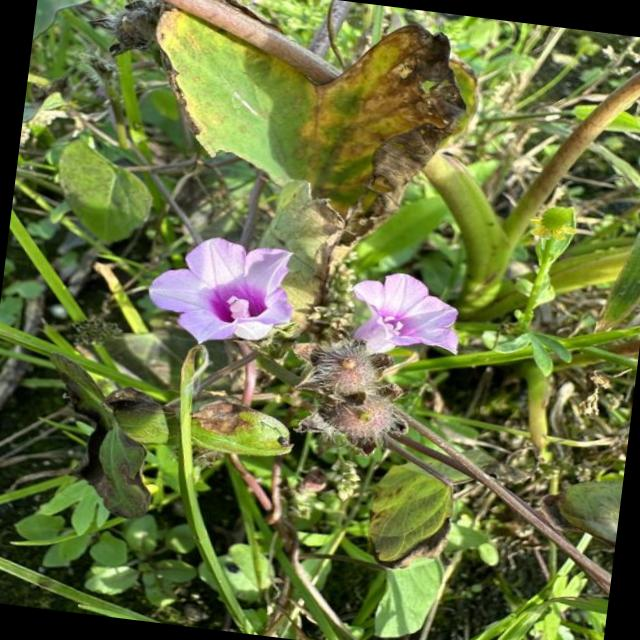ipomoea: (136, 226, 304, 357), (338, 264, 469, 366)
